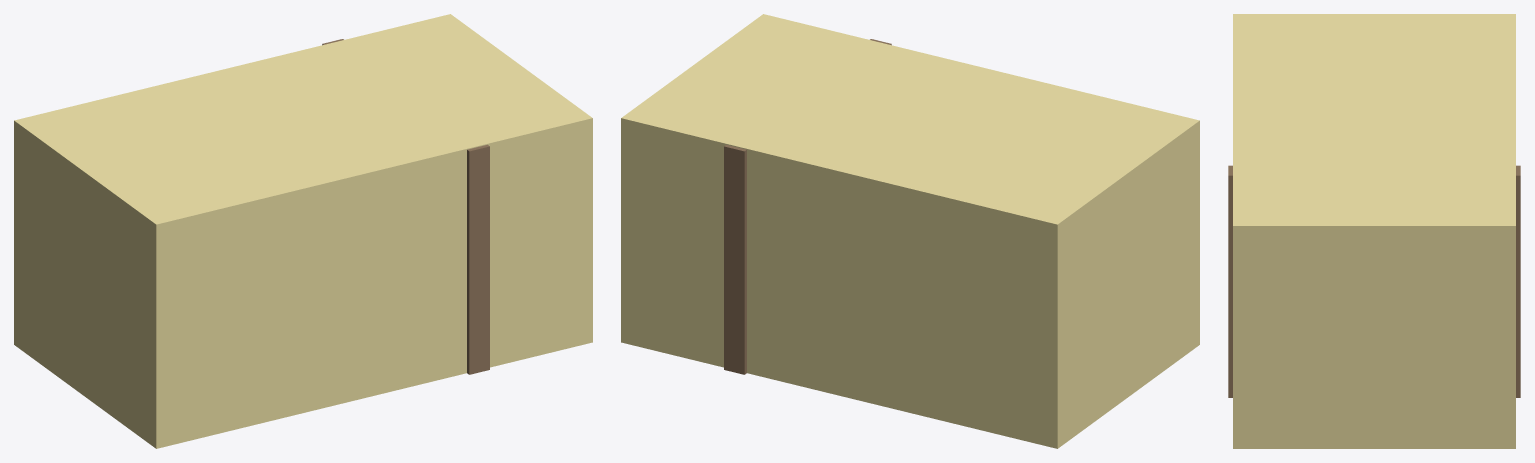
Rendered from Prop_Live_AMF_HayBale_V2.glb.
3 views of the same model, side by side, from view 1: azimuth 30°, elevation 25°; view 2: azimuth 150°, elevation 25°; view 3: azimuth 270°, elevation 25° (orthographic).
Parts seen in each view (by area): view 1: Prop_Live_AMF_HayBale_V2; view 2: Prop_Live_AMF_HayBale_V2; view 3: Prop_Live_AMF_HayBale_V2.
Boxes of the visible parts, x1,y1,x2,y2 form: Prop_Live_AMF_HayBale_V2: (14,14,592,448); Prop_Live_AMF_HayBale_V2: (621,14,1199,448); Prop_Live_AMF_HayBale_V2: (1228,14,1520,448).
Size of the model in its own units: 1.06 by 0.522 by 0.62.
